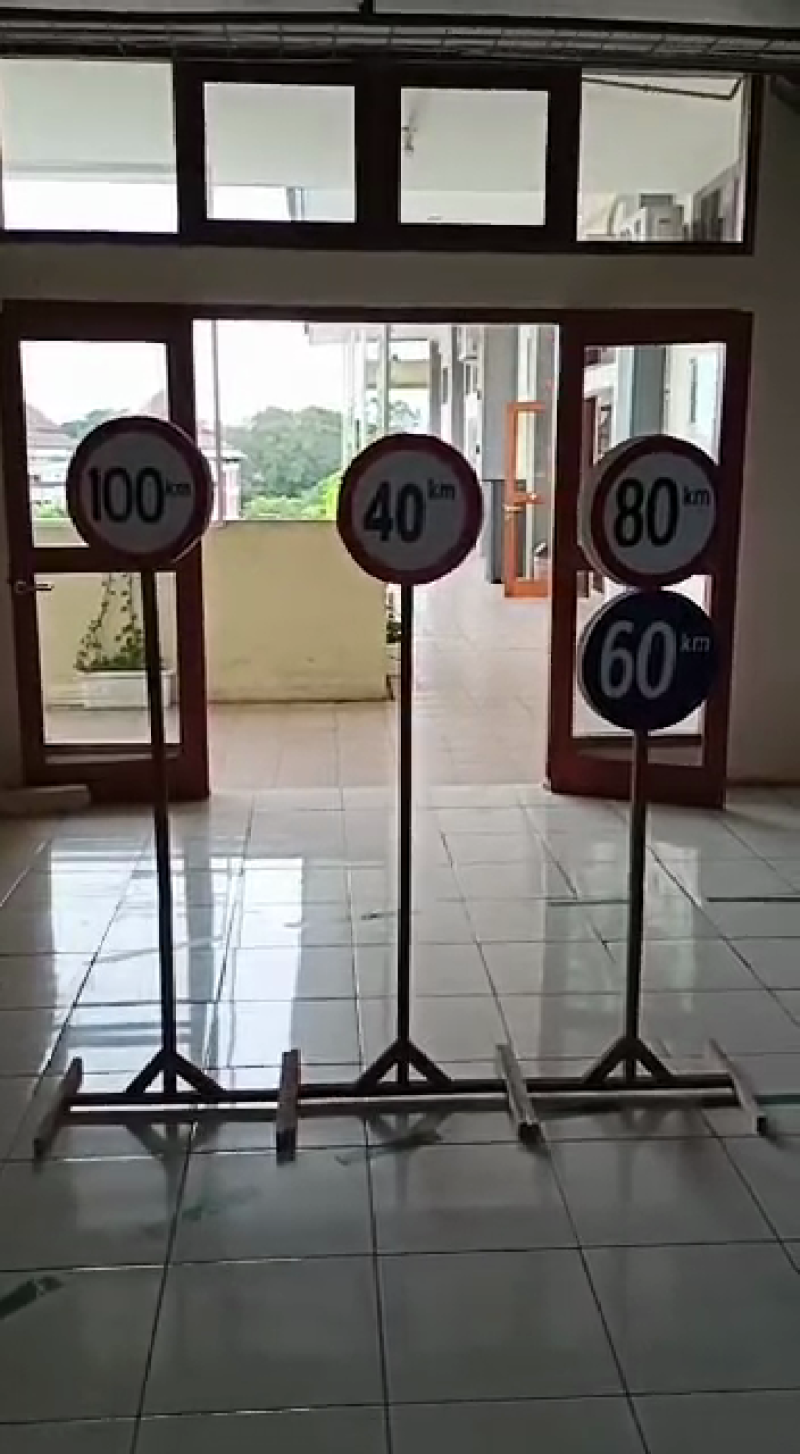batas maksimal 100kmperjam: (63, 411, 222, 583)
batas maksimal 40kmperjam: (326, 420, 498, 596)
batas maksimal 80kmperjam minimal 60kmperjam: (583, 422, 729, 744)
